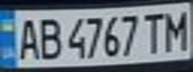4: (63, 13, 87, 60)
6: (103, 12, 124, 59)
7: (81, 14, 106, 58), (118, 11, 142, 56)
A: (12, 15, 42, 61)
B: (36, 15, 63, 61)
M: (160, 6, 193, 53)
T: (139, 9, 166, 54)
